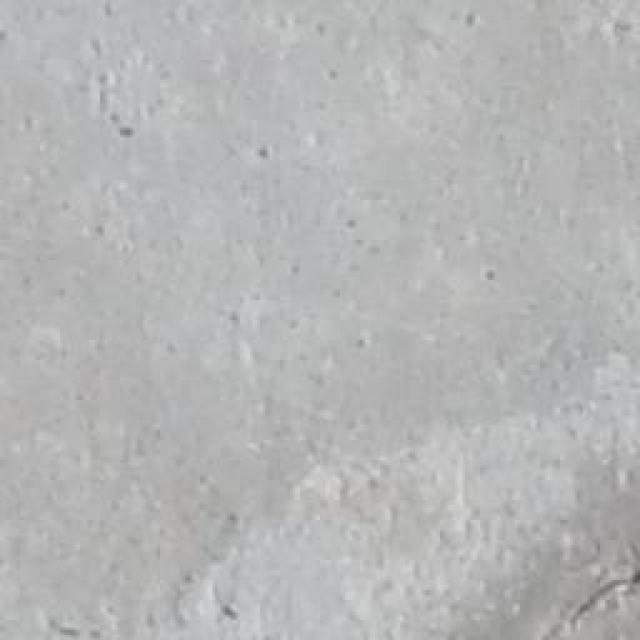concrete-crack: (545, 568, 640, 640)
